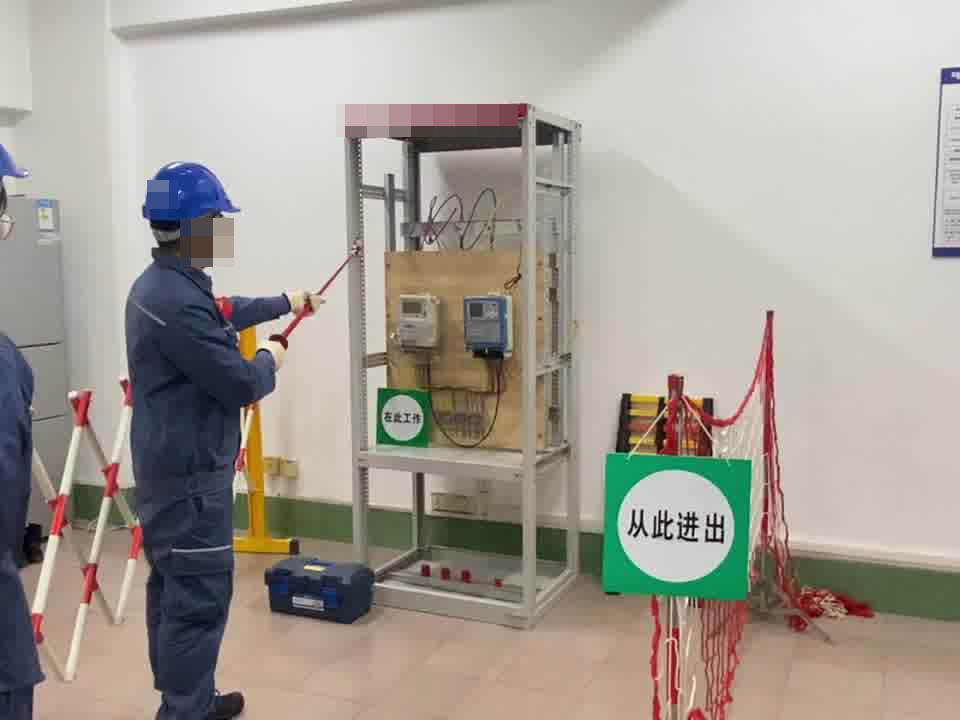badge: (215, 295, 233, 321)
downsuit: (138, 492, 237, 720)
halt: (144, 160, 242, 268)
inear: (191, 220, 216, 253)
intosign: (604, 455, 748, 597)
person: (113, 155, 290, 720), (1, 86, 48, 718)
testrod: (260, 244, 365, 347)
upsuit: (124, 262, 280, 491)
wglove: (284, 287, 324, 316), (262, 342, 284, 369)
worksign: (377, 387, 426, 449)
wronghold: (263, 283, 333, 349)
